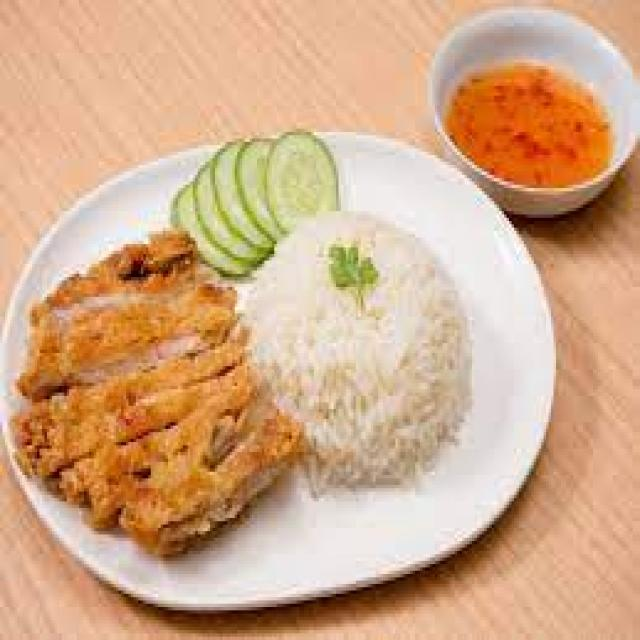Carbohydrate: (247, 204, 473, 486)
Kaow-Mankai: (9, 133, 558, 609)
Protein: (21, 226, 299, 543)
Vegetable: (174, 127, 340, 267)
